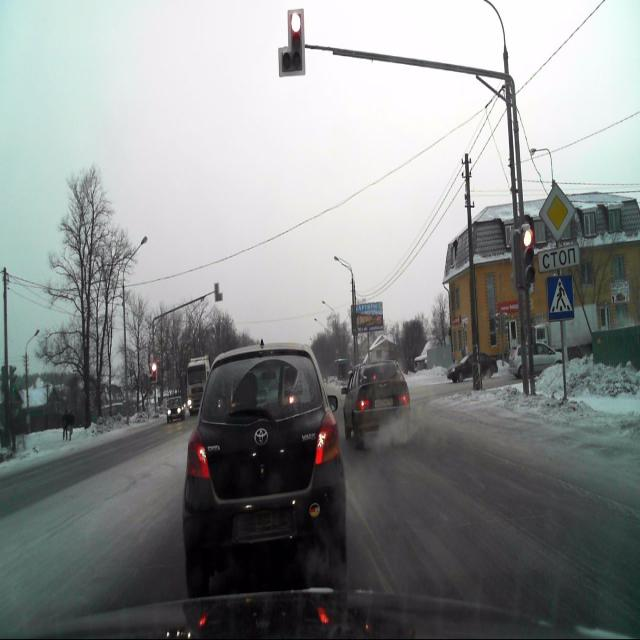object: (561, 324, 568, 400)
road sign: (540, 182, 574, 241), (546, 274, 575, 321), (538, 244, 579, 271)
